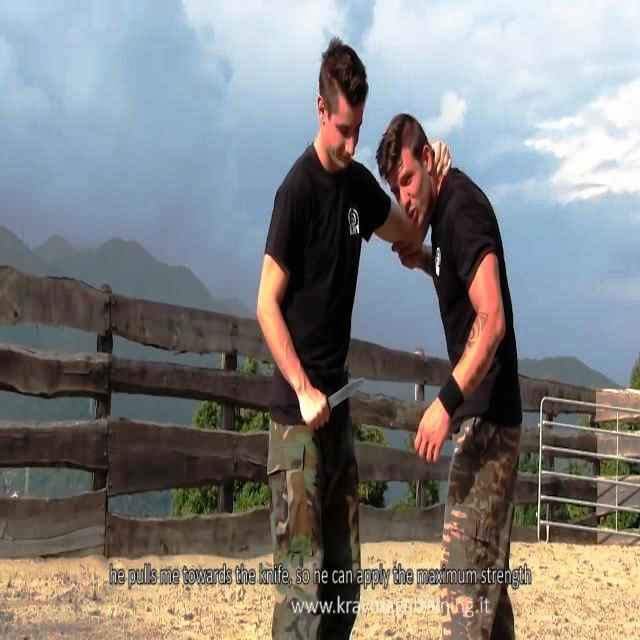Knife: (324, 367, 370, 414)
